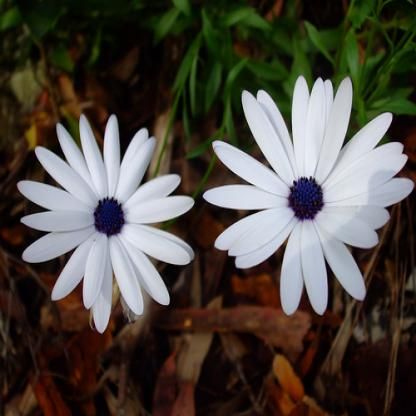ASTER: (6, 67, 416, 330)
